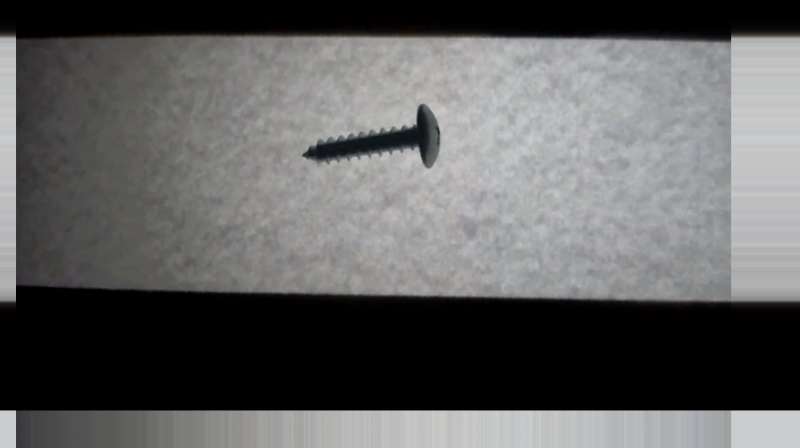S003: (300, 101, 444, 168)
